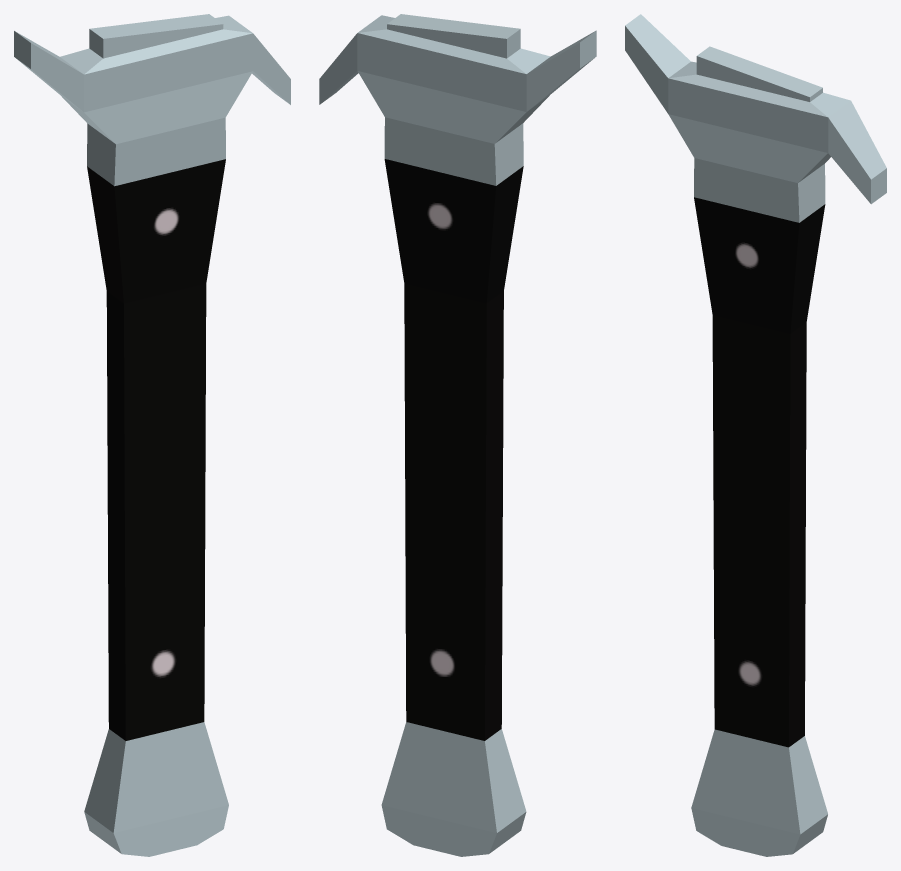
File: SwitchBlade-Blade in.dae
3 renders of one model, left to right at view 1: azimuth 30°, elevation 25°; view 2: azimuth 150°, elevation 25°; view 3: azimuth 330°, elevation 25°, orthographic. The views are drawn at different scales.
Visible parts, largest first — view 1: Cube; view 2: Cube; view 3: Cube.
Boxes of the visible parts, x1,y1,x2,y2 form: Cube: (14,14,290,856); Cube: (319,14,596,856); Cube: (625,14,886,856).
Size of the model in its own units: 0.0373 by 0.00827 by 0.1142.
3 materials, 1 textured.
